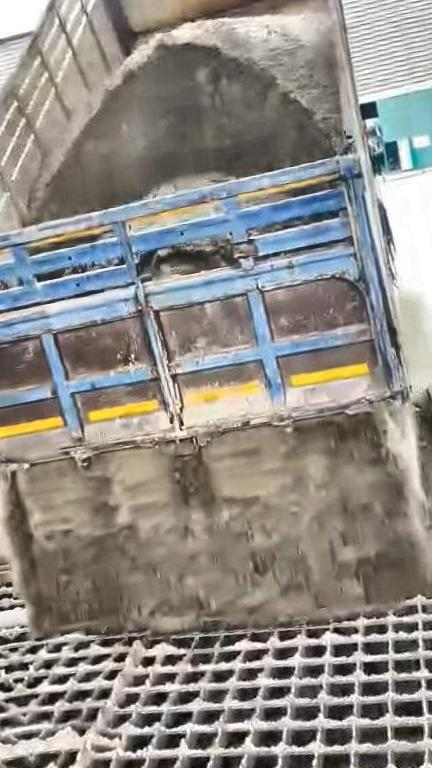sand: (0, 358, 432, 635), (19, 0, 356, 223)
